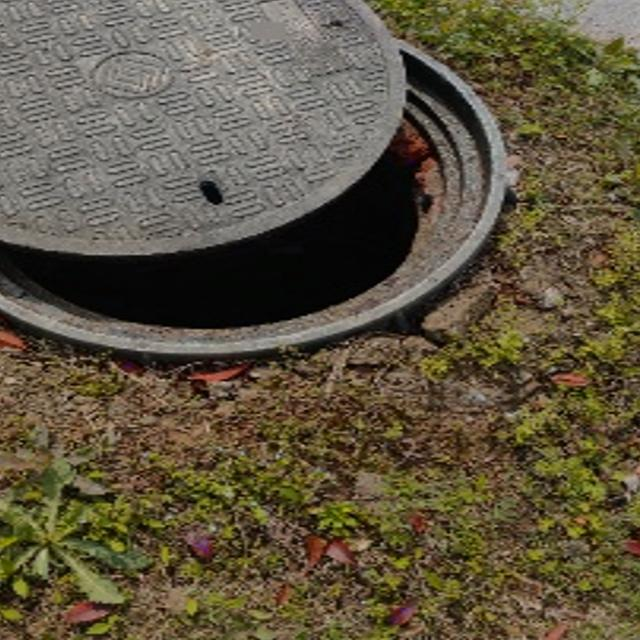uncovered: (0, 0, 503, 355)
